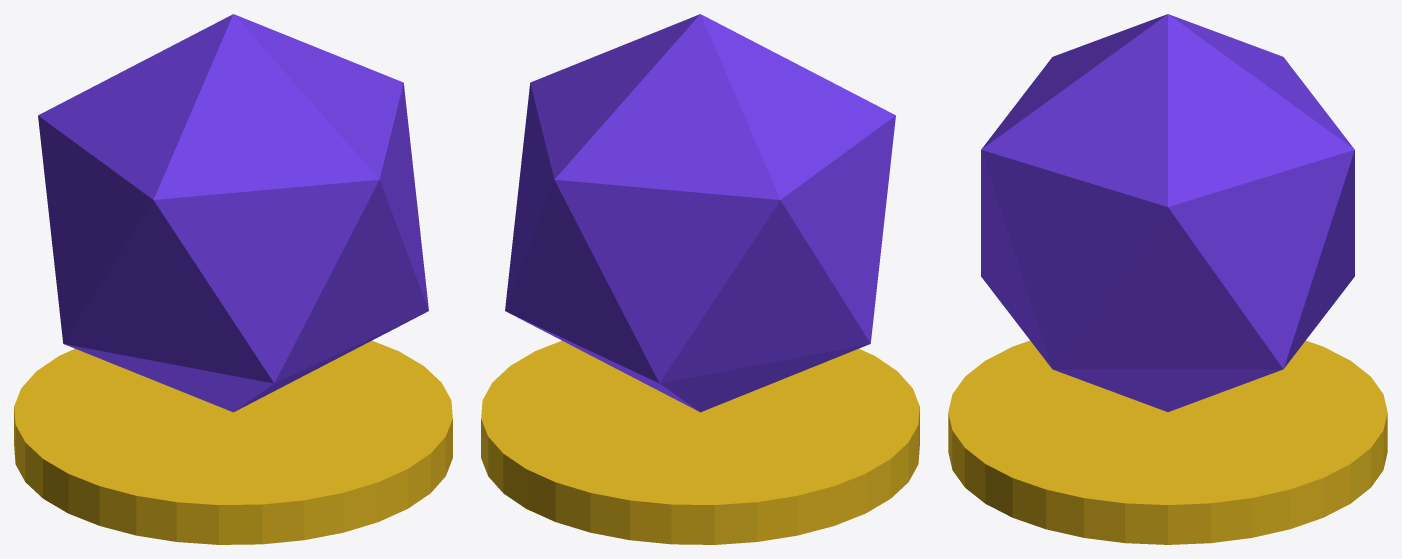
The model's file is icosaedron.glb.
The picture shows the model from 3 angles, left to right: view 1: azimuth 30°, elevation 25°; view 2: azimuth 150°, elevation 25°; view 3: azimuth 270°, elevation 25°; orthographic projection.
Parts seen in each view (by area): view 1: Ichosa-obelis, Golden-base; view 2: Ichosa-obelis, Golden-base; view 3: Ichosa-obelis, Golden-base.
Part boxes in pixels (x1,y1,x2,y2): Ichosa-obelis: (38, 14, 428, 412); Golden-base: (14, 340, 452, 544); Ichosa-obelis: (505, 14, 895, 412); Golden-base: (481, 340, 919, 544); Ichosa-obelis: (981, 14, 1354, 411); Golden-base: (948, 340, 1387, 544).
Bounding box in the file's own units: 2 × 2.2 × 2.
